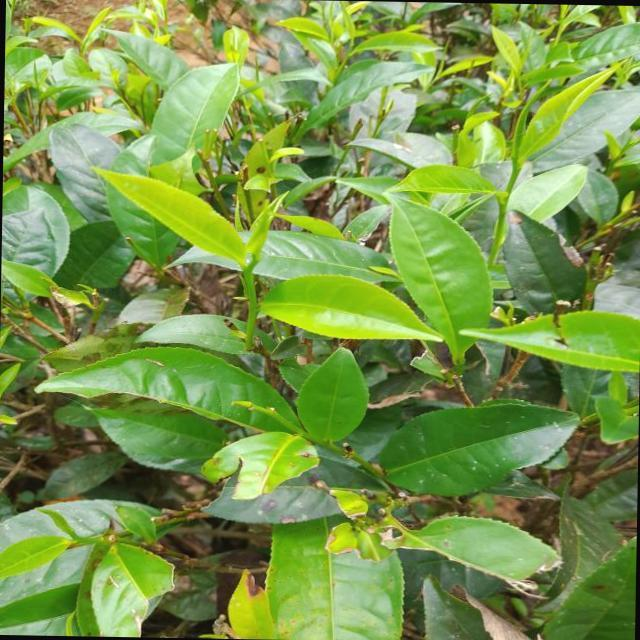Stem: (244, 268, 252, 276), (512, 170, 519, 176)
